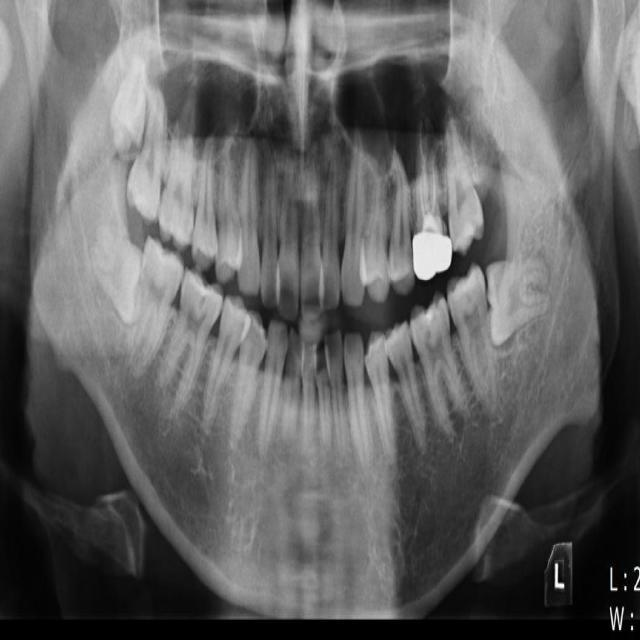3M ESPE Implant: (106, 23, 154, 164)
52: (165, 257, 237, 327), (396, 289, 461, 354), (409, 230, 453, 281)
73: (391, 113, 449, 244), (612, 566, 616, 574)
BioHorizons Implant: (440, 99, 487, 259)
Biomet 3i Implant: (482, 254, 556, 346)
Blue Sky Bio Implant: (443, 260, 502, 420)
Caries: (125, 87, 165, 224)
Implant: (125, 234, 189, 376)
Keystone Dental Implant: (84, 223, 151, 325)
